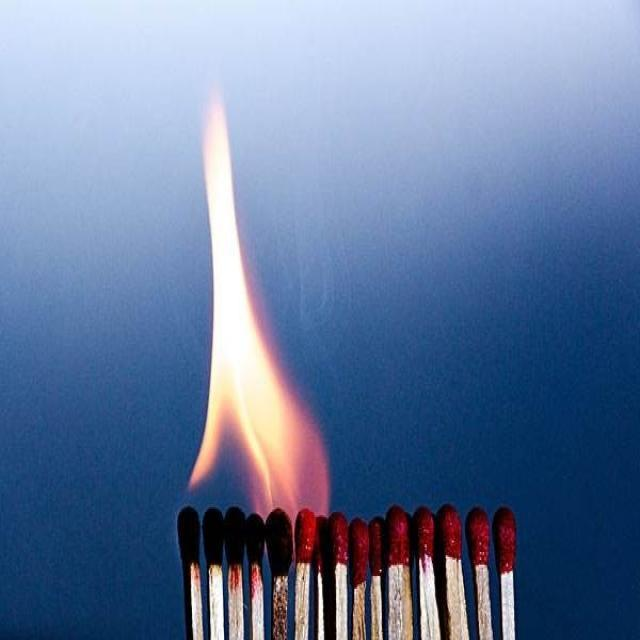Fire: (175, 91, 331, 517)
